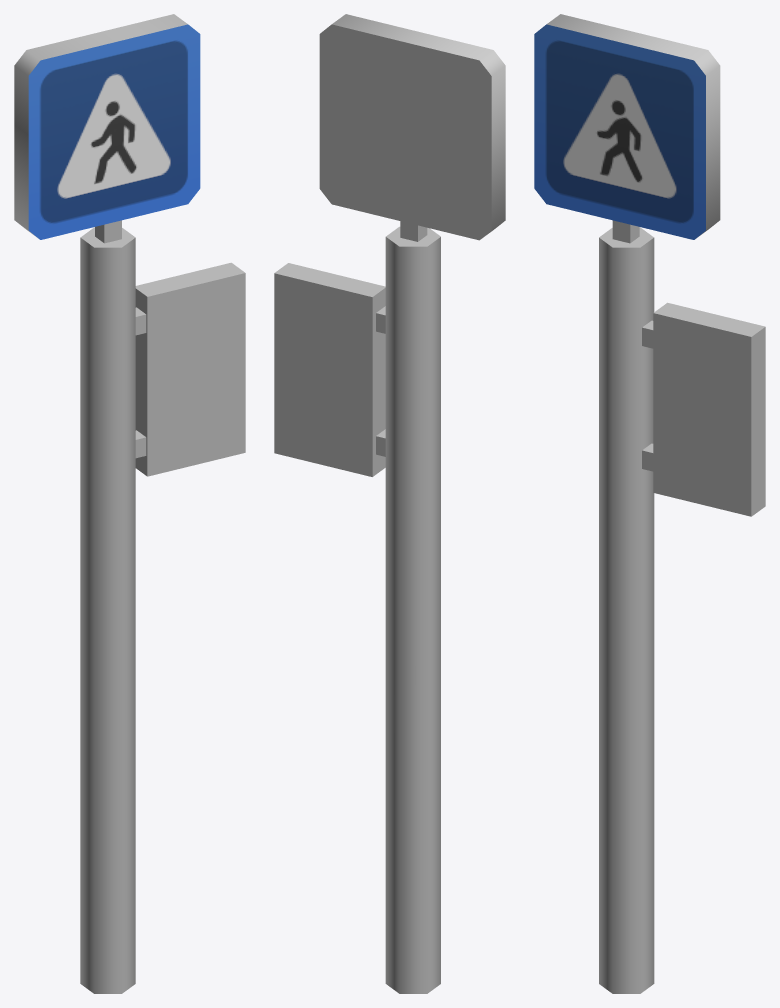
Rendered from traffic_light_003.fbx.
3 renders of one model, left to right at view 1: azimuth 30°, elevation 25°; view 2: azimuth 150°, elevation 25°; view 3: azimuth 330°, elevation 25°, orthographic.
Visible parts, largest first — view 1: traffic_light_003; view 2: traffic_light_003; view 3: traffic_light_003.
Boxes of the visible parts, box(x1,y1,x2,y2) form: traffic_light_003: box(14, 14, 245, 993); traffic_light_003: box(274, 14, 505, 993); traffic_light_003: box(534, 14, 765, 993).
Bounding box in the file's own units: 88.47 × 19.5 × 368.
